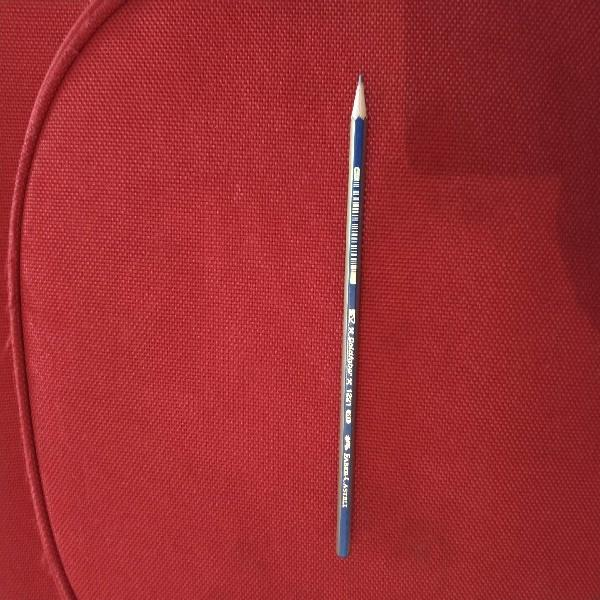pencil: (336, 74, 366, 557)
